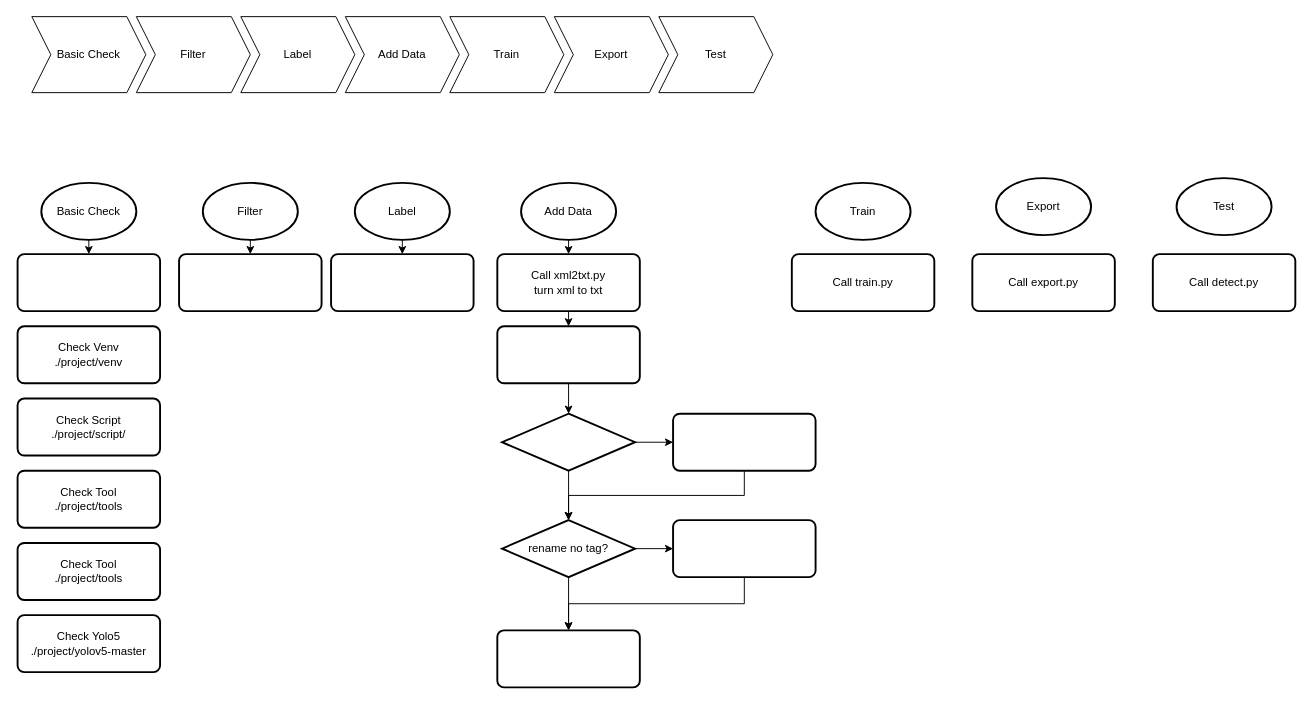
Some shapes in this 1312 by 705 pixel diagram are drawn without their labels. The shapes that lost their labels are listed below. From the top down, each one's centre as x and y in pixels, then its label:
At (88,282): "Check Python system installation".
At (250,282): "Use SSIM reduce similar picture".
At (402,282): "Call LabelImg".
At (568,354): "Call no_xml2txt.py create empty txt".
At (568,441): "rename?".
At (744,441): "Call rename.py".
At (744,548): "Call re_notag.py".
At (568,658): "Call splite dataset".
